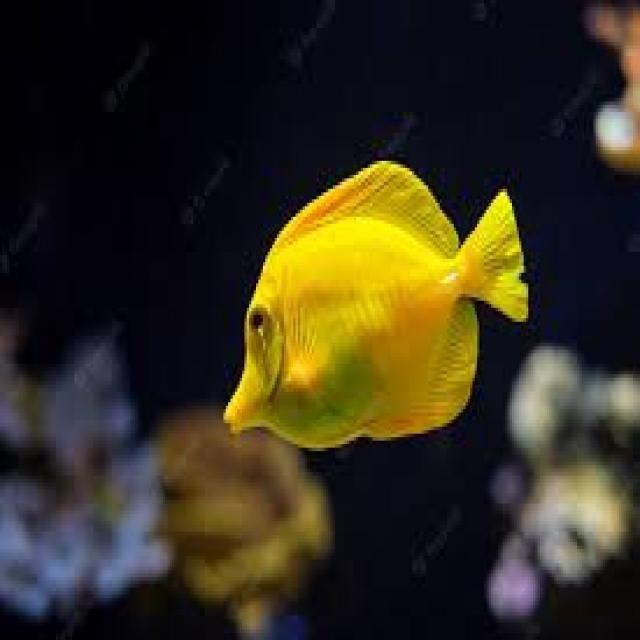TangFish: (216, 156, 531, 445)
